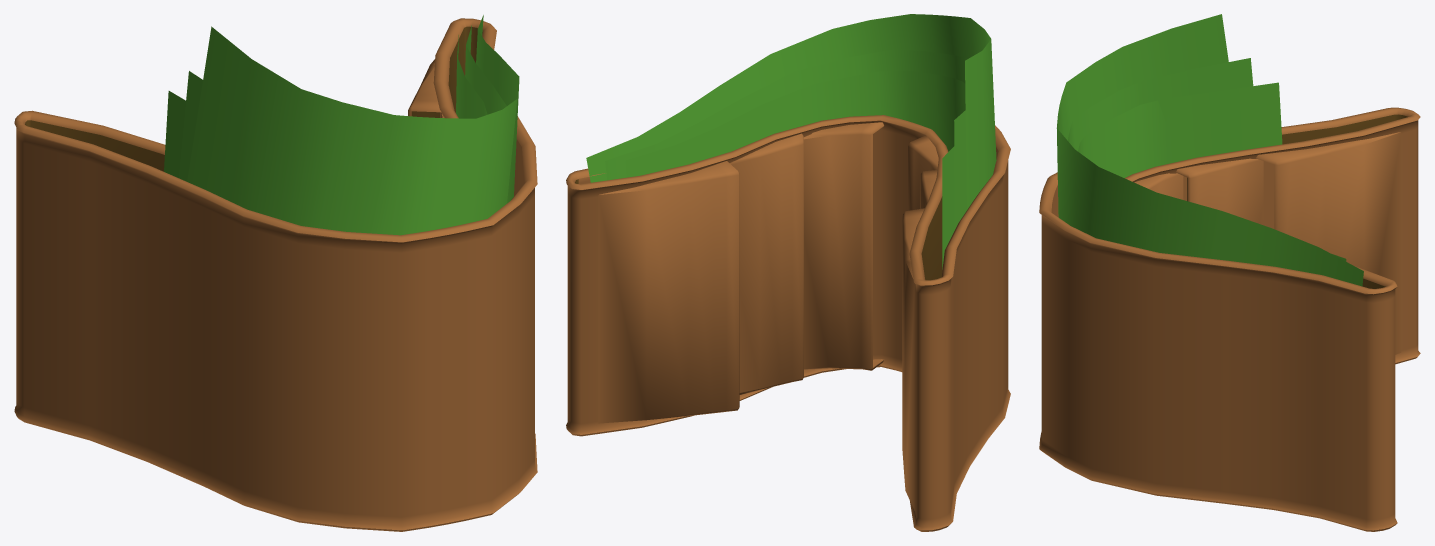
File: Wallet.fbx
3 views of the same model, side by side, from view 1: azimuth 30°, elevation 25°; view 2: azimuth 150°, elevation 25°; view 3: azimuth 270°, elevation 25° (orthographic). The views are drawn at different scales.
Parts seen in each view (by area): view 1: Wallet; view 2: Wallet; view 3: Wallet.
Part boxes in pixels (bbox=[...]): Wallet: bbox=[14, 15, 537, 531]; Wallet: bbox=[566, 14, 1010, 531]; Wallet: bbox=[1039, 14, 1420, 531].
Size of the model in its own units: 4.88 by 4.54 by 4.26.
